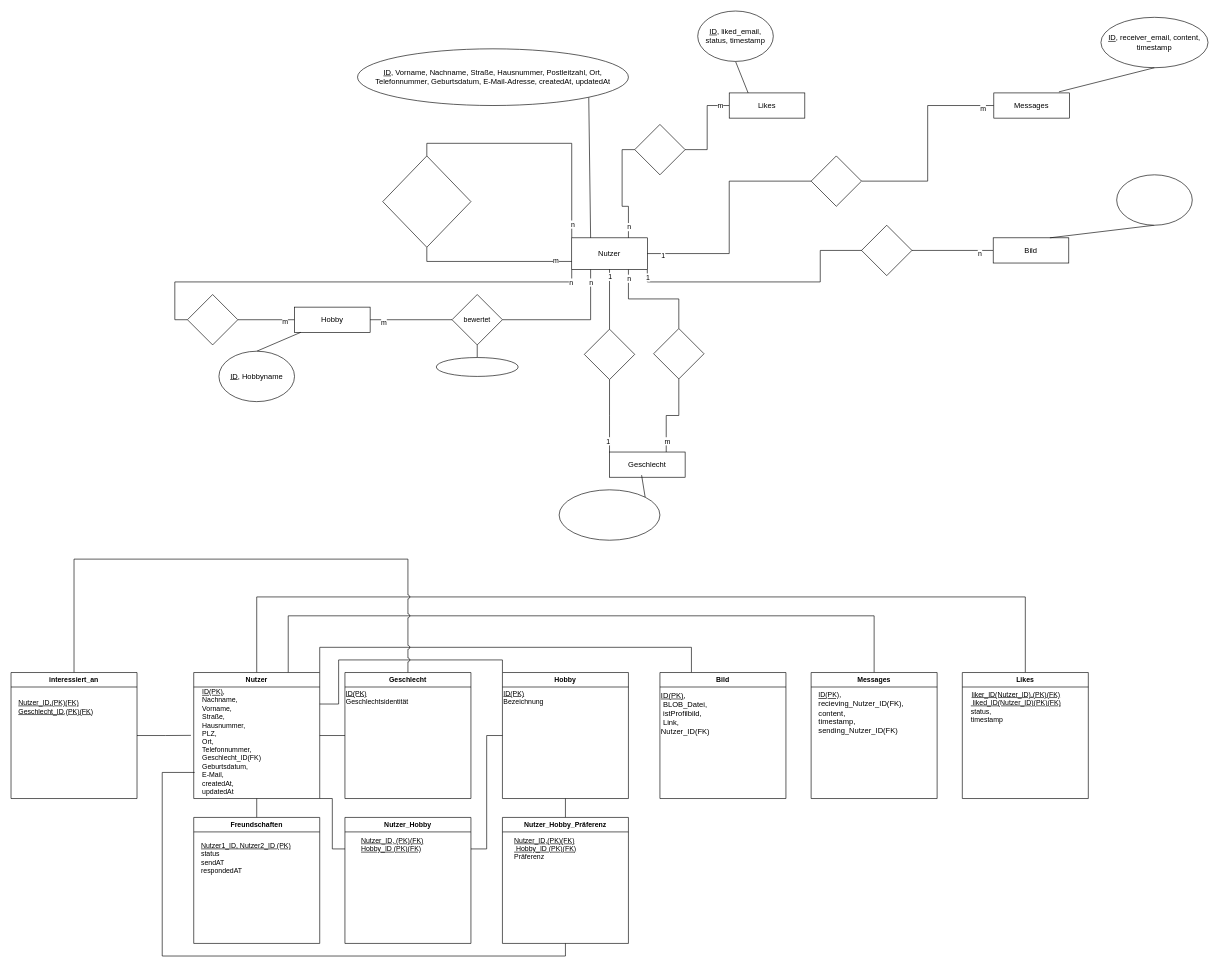
Image size: 1219x968. Some labels were removed from this diagram. The shapes that lost their labels are listed below. From the top down, each one's centre as x and y in pixels, then its label:
At (659,149): "vergibt".
At (836,180): "sendet".
At (1154,199): "ID , BLOB_Datei, istProfilbild, Link".
At (426,201): "fragt Freundschaft an".
At (886,250): "besitzt".
At (212,319): "betreibt".
At (477,366): "Präferenz: -100-100".
At (609,354): "hat".
At (678,353): "interessiert an".
At (609,514): "ID , Geschlechtsidentitäten".
